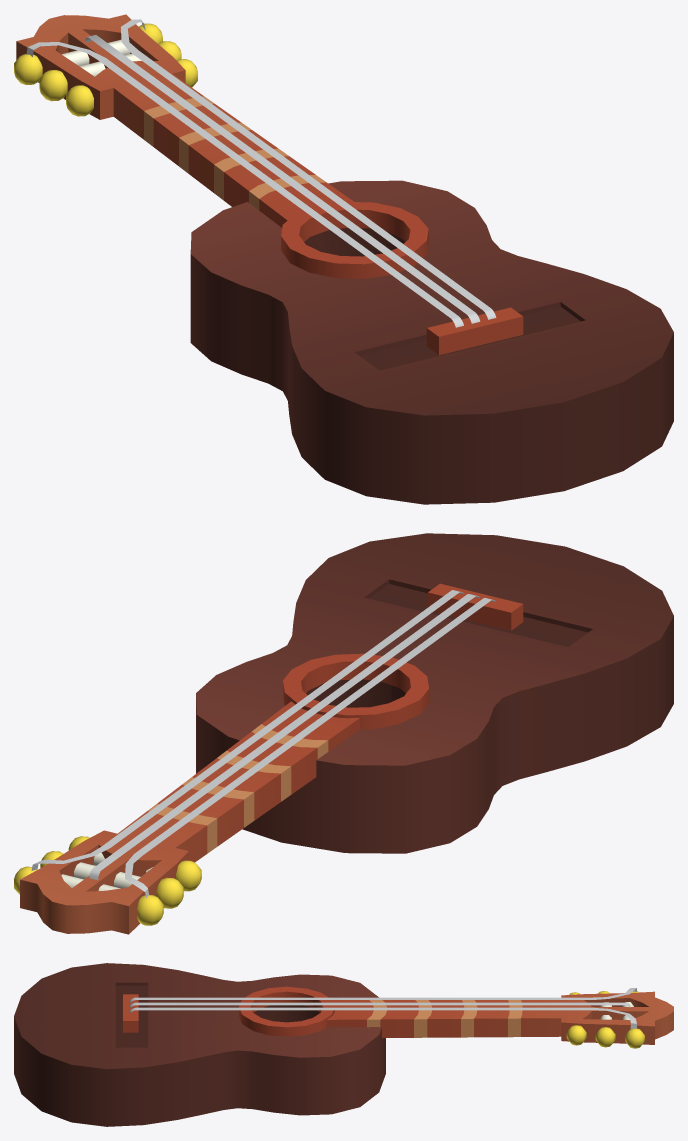
Rendered from Guitar.fbx.
3 renders of one model, top to bottom at view 1: azimuth 30°, elevation 25°; view 2: azimuth 150°, elevation 25°; view 3: azimuth 270°, elevation 25°, orthographic. The views are drawn at different scales.
Visible parts, largest first — view 1: Guitar.001; view 2: Guitar.001; view 3: Guitar.001.
Part boxes in pixels (box(x1,y1,x2,y2)): Guitar.001: box(14, 14, 673, 504); Guitar.001: box(14, 533, 673, 934); Guitar.001: box(14, 963, 673, 1126).
Size of the model in its own units: 325 by 100 by 854.
